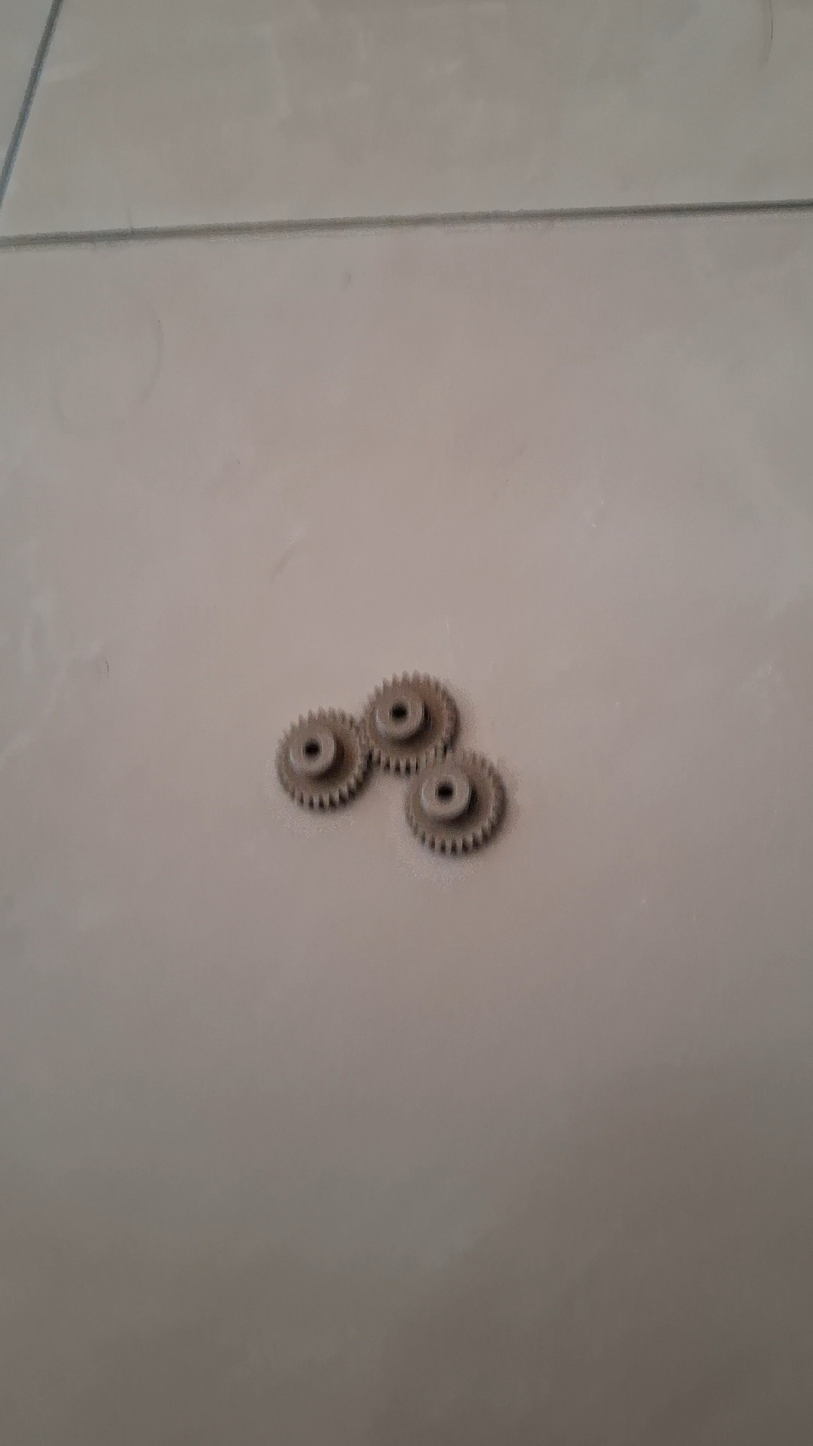spur gear: (406, 752, 504, 853), (361, 673, 457, 773), (276, 709, 369, 809)
